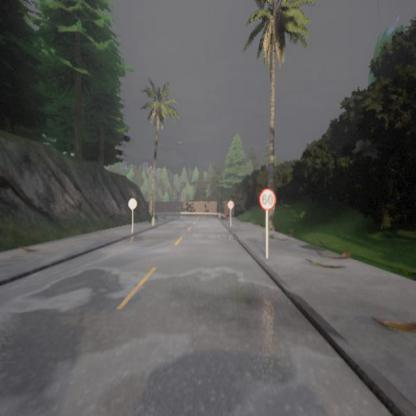traffic_sign_60: (260, 189, 276, 210)
